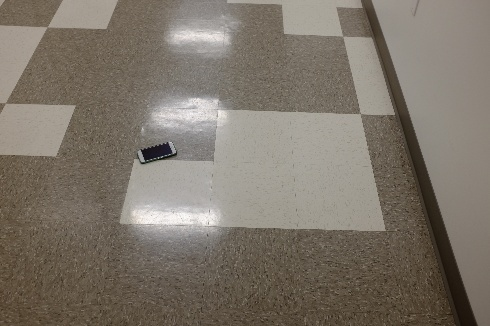phone: (135, 136, 184, 168)
